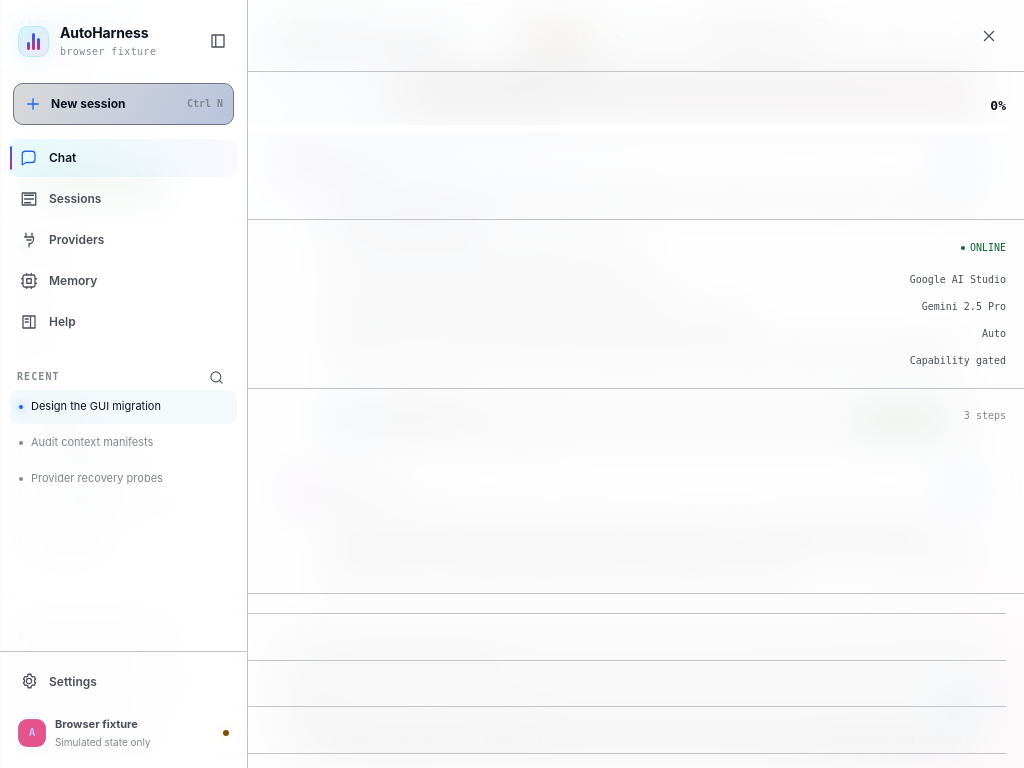
Scenario: AutoHarness GUI › opens provider management from the primary application rail
The image size is (1024, 768).
(page scrolled)
Click the button "Providers": click(124, 240) left=10, top=221, right=237, bottom=259
(page scrolled)
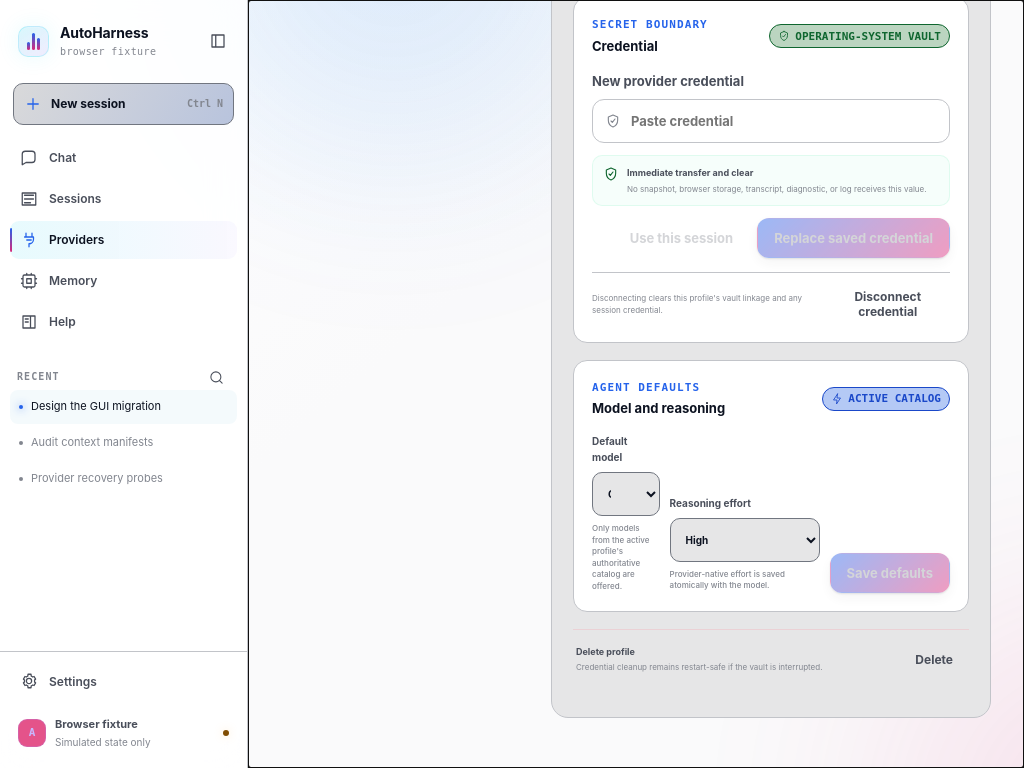
Check: the heading "Credential" is shown, box left=592, top=38, right=658, bottom=54
Check: the heading "Model and reasoning" is shown, box left=592, top=398, right=725, bottom=419
